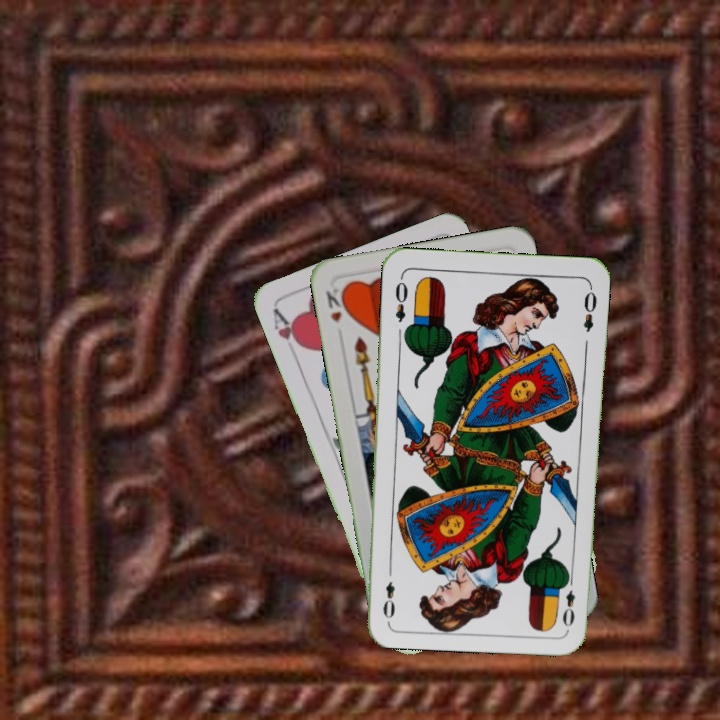EO: (559, 571, 578, 629), (391, 273, 411, 325)
HA: (269, 305, 307, 353)
HK: (321, 284, 351, 326)
